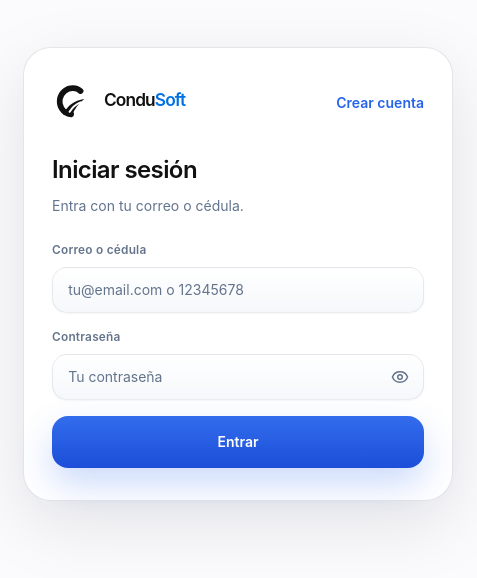
login navigation › el correo de instructor no se interpreta como cedula
Step 1. Type "  Instructor@Example.test  " into the field labelled "Correo o cédula" → (238, 290), box [52,267,424,313]
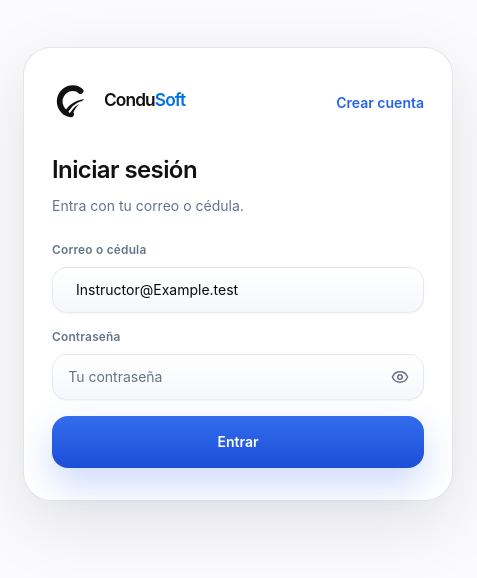
Step 2. Type "test-password" into the password field labelled "Contraseña" → (238, 377), box [52,354,424,400]
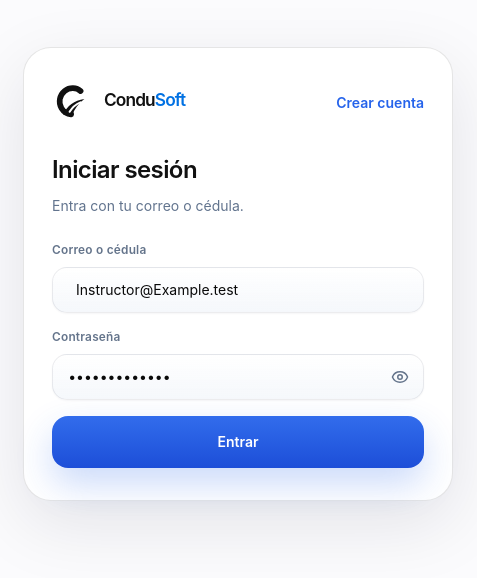
Step 3. Click the button "Entrar" → (238, 442), box [52,416,424,468]
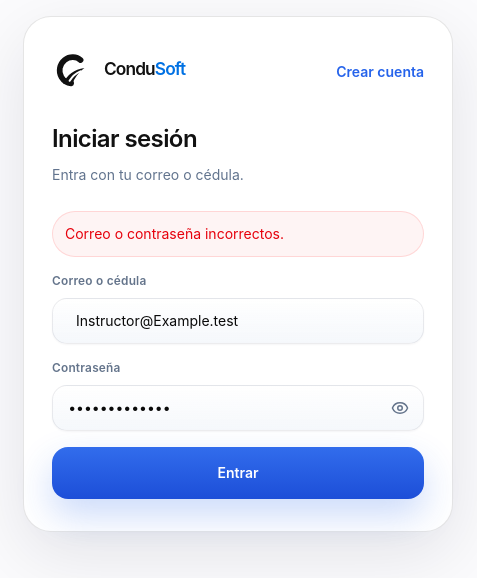
Result: the text "Correo o contraseña incorrectos." is shown at [52,211,424,257]
